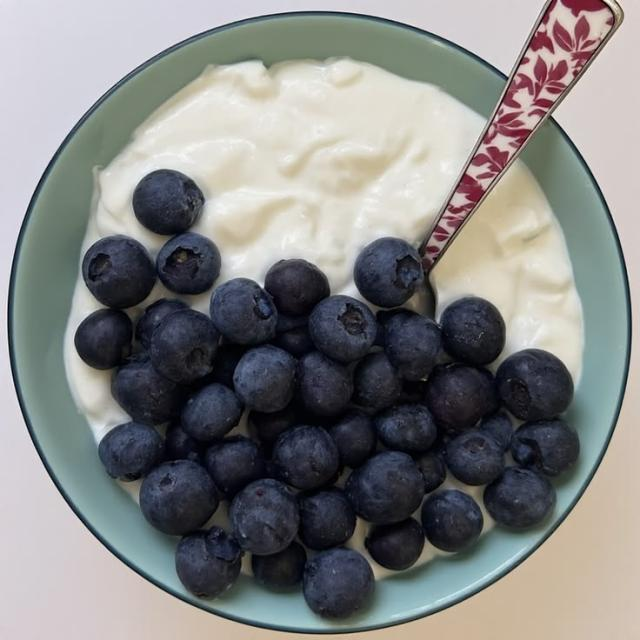blueberry: (140, 460, 219, 534), (346, 452, 424, 524), (496, 349, 573, 420), (82, 235, 156, 308), (149, 309, 219, 384), (230, 479, 299, 554), (303, 548, 374, 619), (112, 354, 184, 424), (354, 238, 423, 307), (176, 527, 243, 598), (426, 363, 495, 430), (133, 169, 204, 234), (440, 297, 506, 366), (309, 295, 376, 362), (210, 278, 277, 345), (484, 467, 555, 530), (273, 426, 339, 489), (234, 346, 296, 413), (156, 233, 220, 294), (421, 490, 483, 552), (99, 422, 165, 480), (385, 311, 441, 379), (511, 419, 579, 475), (181, 384, 243, 442), (298, 487, 355, 550), (206, 437, 265, 497), (297, 352, 353, 415), (265, 260, 329, 315), (74, 309, 132, 369), (446, 429, 504, 486), (365, 518, 425, 570), (374, 404, 436, 454), (329, 410, 377, 468), (354, 353, 401, 410), (252, 541, 306, 589), (135, 299, 187, 348), (248, 405, 298, 454), (166, 421, 206, 463), (207, 344, 246, 387), (480, 411, 513, 451), (374, 307, 407, 347), (274, 326, 315, 358), (415, 451, 446, 493), (478, 367, 501, 415), (398, 380, 427, 403), (277, 313, 308, 333)
